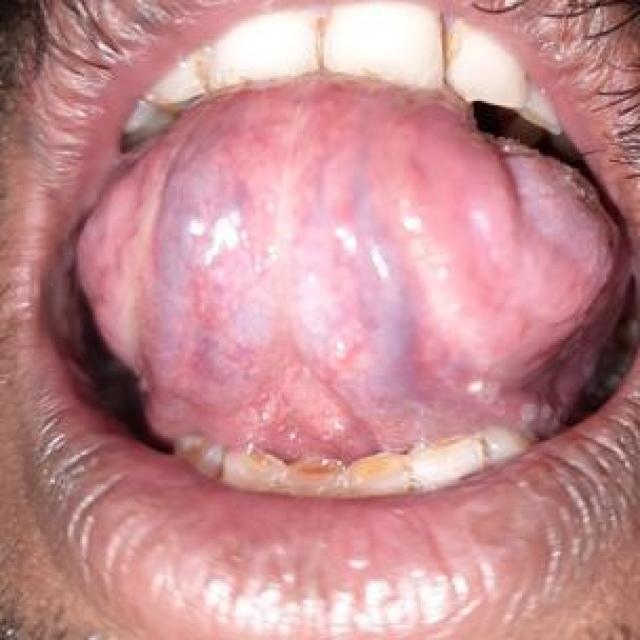processing_area: (72, 79, 635, 455)
